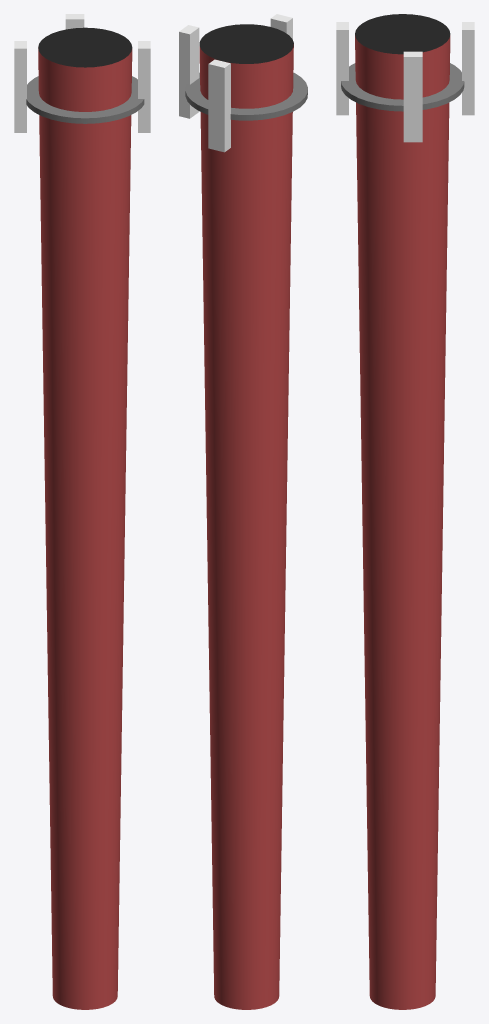
The model's file is Factory (tower 3).fbx.
The picture shows the model from 3 angles, left to right: view 1: azimuth 90°, elevation 25°; view 2: azimuth 150°, elevation 25°; view 3: azimuth 270°, elevation 25°; orthographic projection.
Parts seen in each view (by area): view 1: Factory (tower 3); view 2: Factory (tower 3); view 3: Factory (tower 3).
Boxes of the visible parts, x1,y1,x2,y2 form: Factory (tower 3): (14, 14, 150, 1009); Factory (tower 3): (179, 14, 307, 1009); Factory (tower 3): (336, 14, 474, 1009).
Bounding box in the file's own units: 1074 × 8852 × 1145.
